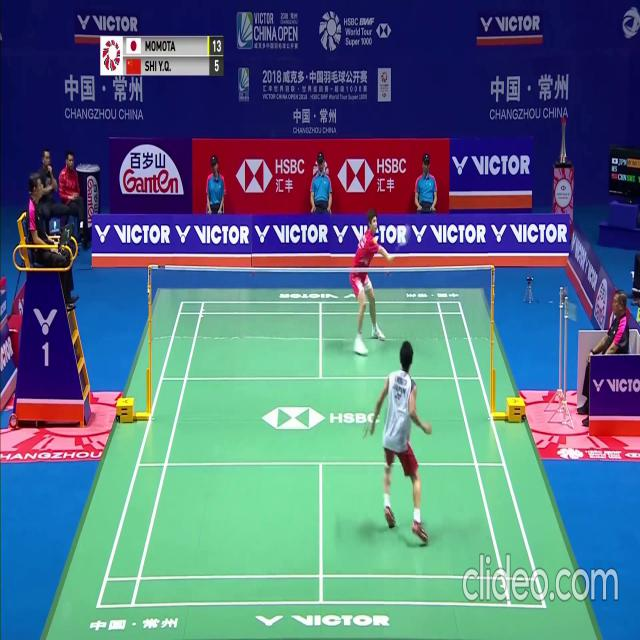Shuttlecock: (398, 226, 402, 233)
